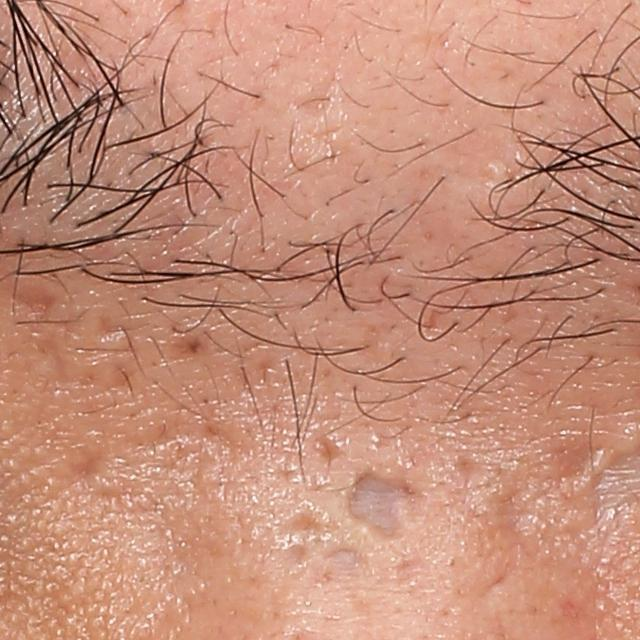atrophic_scar: (345, 460, 432, 546), (498, 484, 546, 546), (286, 82, 336, 132), (286, 505, 333, 542), (69, 448, 108, 484), (20, 288, 61, 318), (450, 454, 481, 489), (319, 431, 343, 470), (168, 334, 205, 357), (332, 545, 367, 566)
